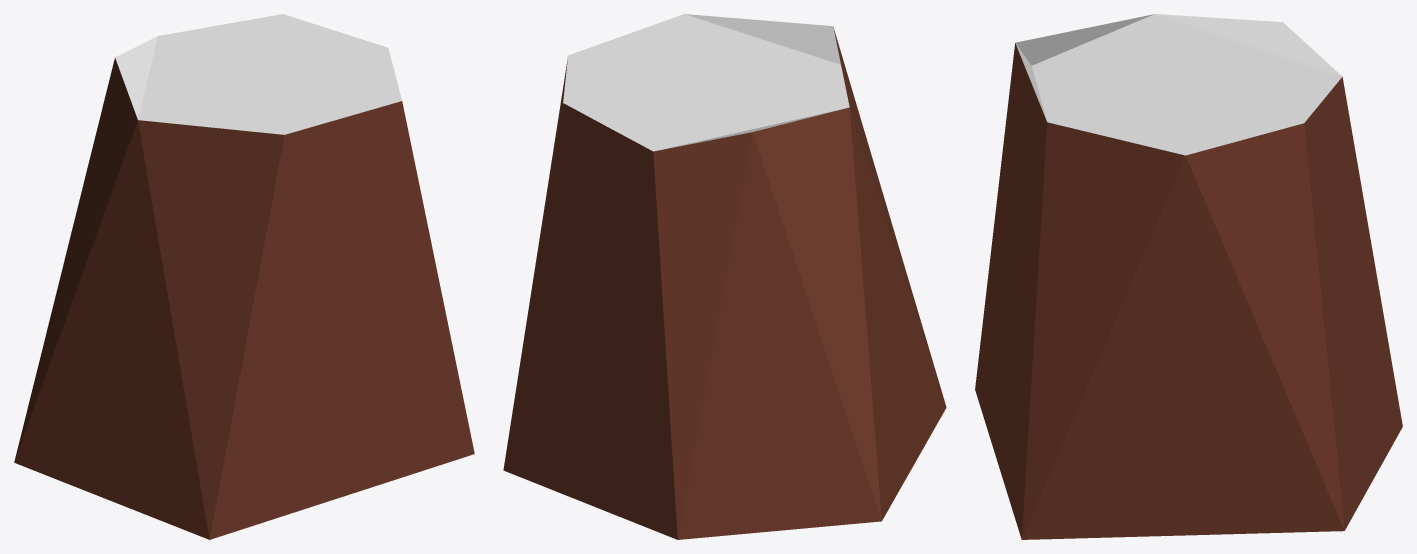
Rendered from pine_trunk_type_3_extra_LOD3.fbx.
3 renders of one model, left to right at view 1: azimuth 30°, elevation 25°; view 2: azimuth 150°, elevation 25°; view 3: azimuth 270°, elevation 25°, orthographic. The views are drawn at different scales.
Visible parts, largest first — view 1: pt_type_3.001; view 2: pt_type_3.001; view 3: pt_type_3.001.
Part boxes in pixels (x1=…): pt_type_3.001: x1=14, y1=14, x2=474, y2=539; pt_type_3.001: x1=503, y1=14, x2=946, y2=539; pt_type_3.001: x1=975, y1=14, x2=1402, y2=539.
Bounding box in the file's own units: 188 × 189 × 184.
